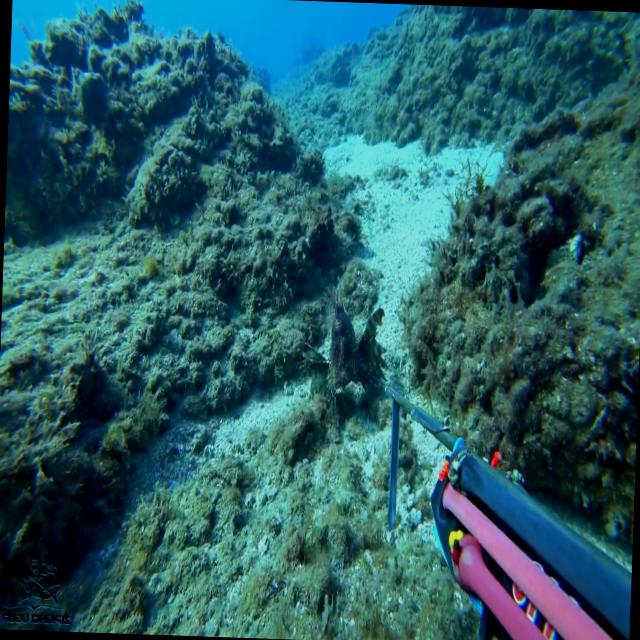Aslan Baligi: (292, 256, 400, 424)
